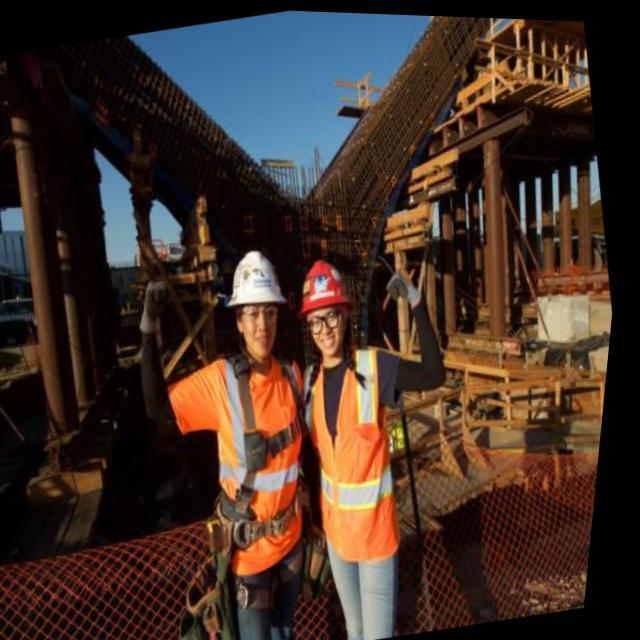belt: (196, 344, 344, 618)
